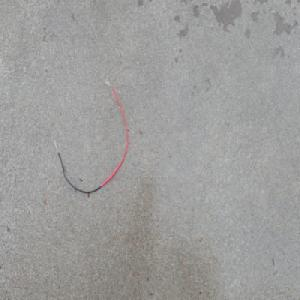Wire: (52, 76, 129, 195)
